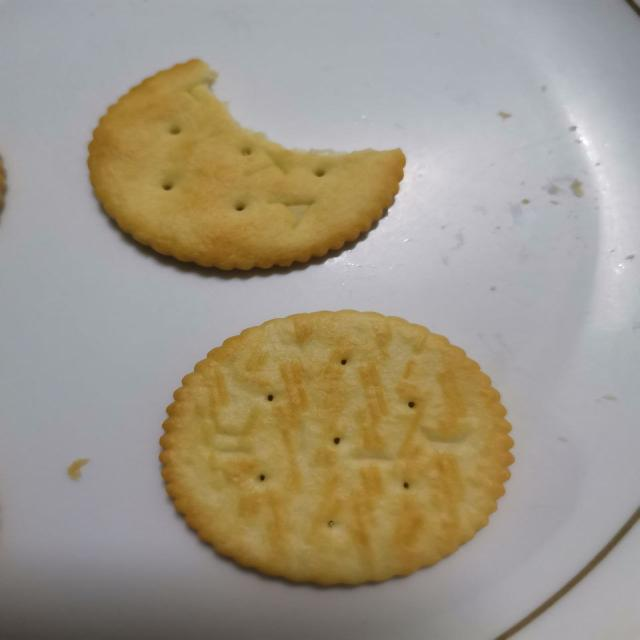broken biscuit: (85, 56, 408, 272)
intact biscuit: (157, 308, 516, 588)
